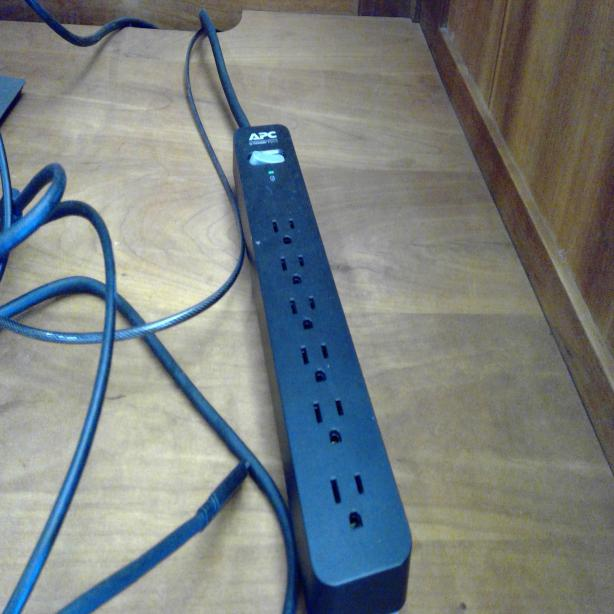typeb: (328, 468, 372, 541), (312, 393, 352, 448), (299, 340, 336, 386), (286, 289, 321, 337), (279, 250, 309, 288), (271, 210, 299, 250)
